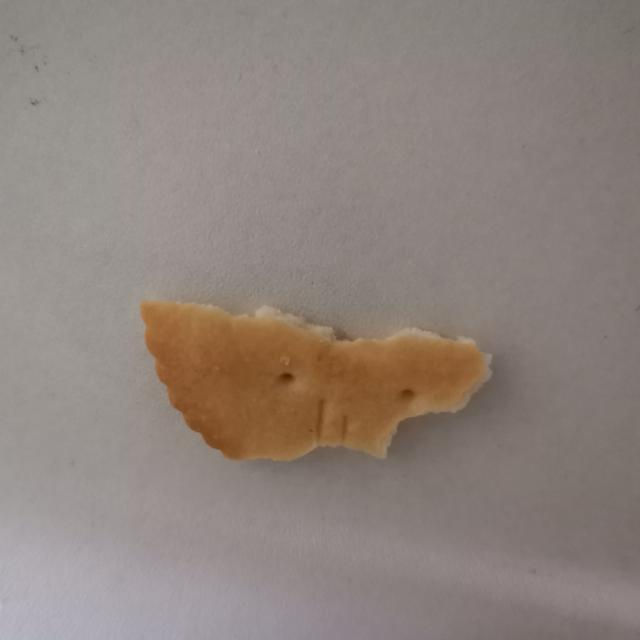Broken: (138, 297, 494, 463)
